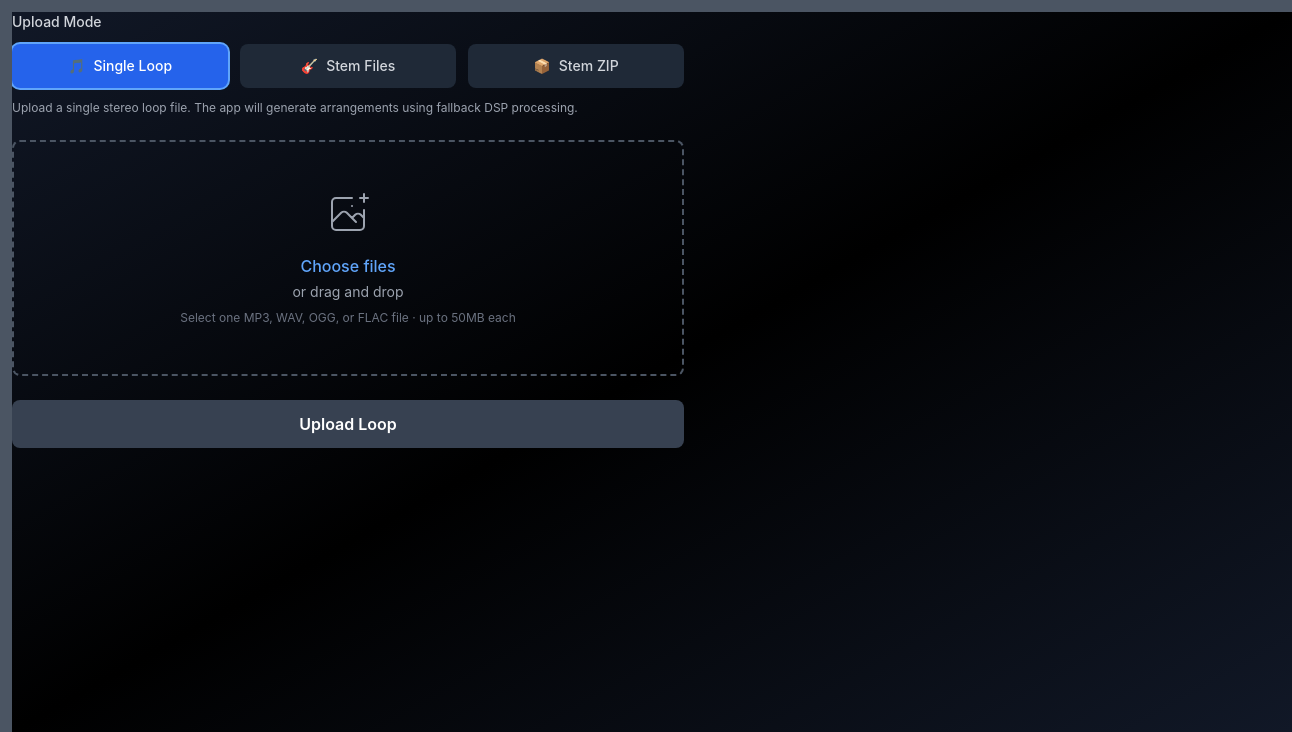
Test case: UploadForm Component › Stem Files Mode › should show upload button with stem label
Step 1. Click the button "🎸 Stem Files" → [348, 66], box x1=240 y1=44 x2=456 y2=88
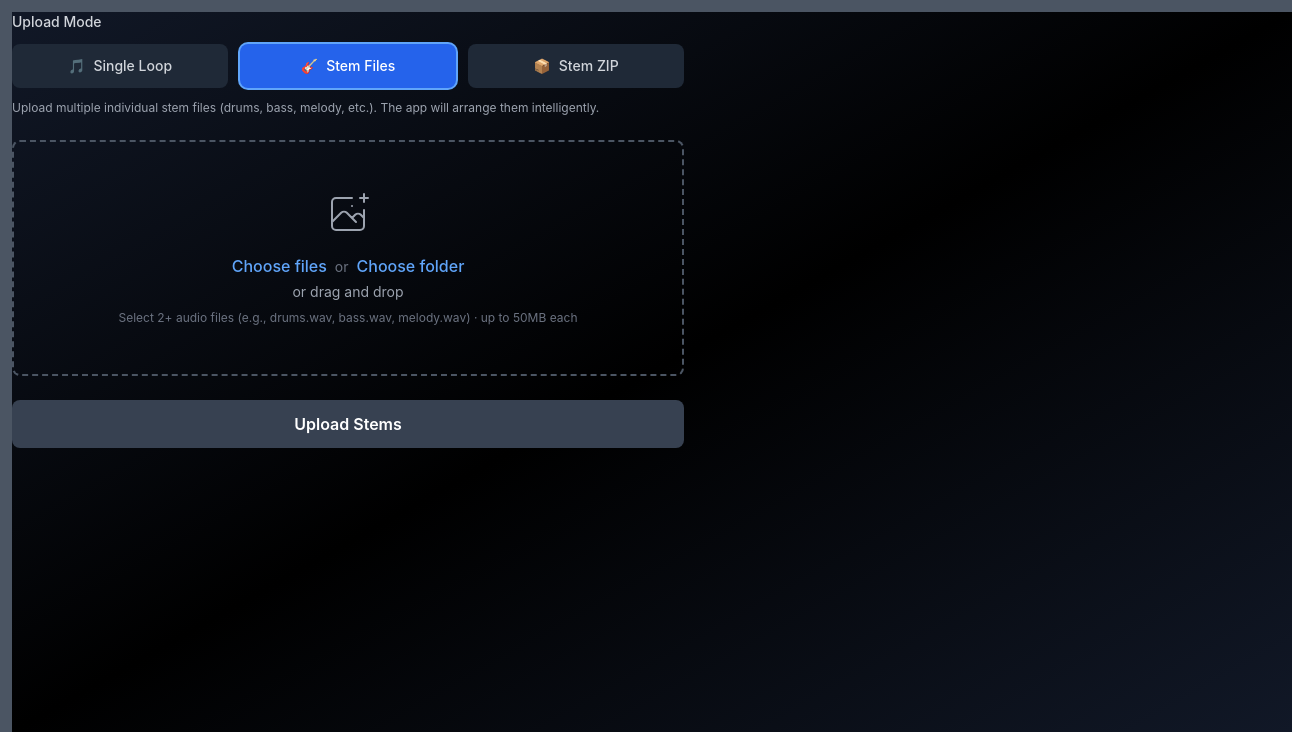
Result: the button "Upload Stems" is shown at x1=12 y1=400 x2=684 y2=448
